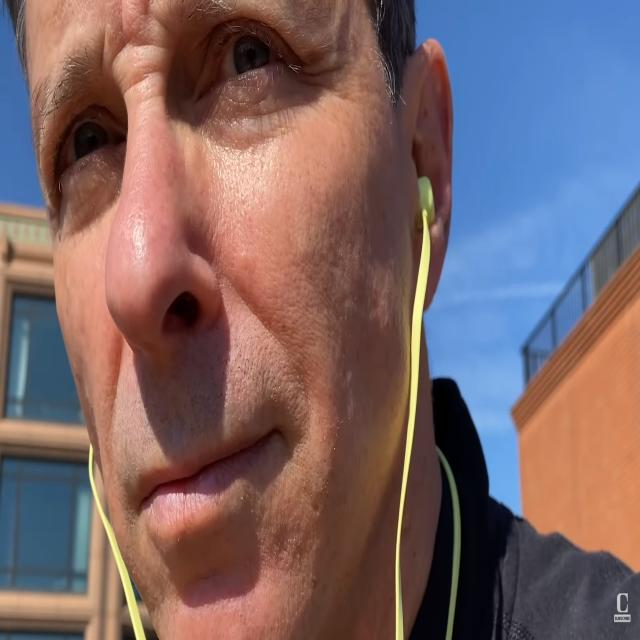Neckband: (87, 169, 435, 640)
